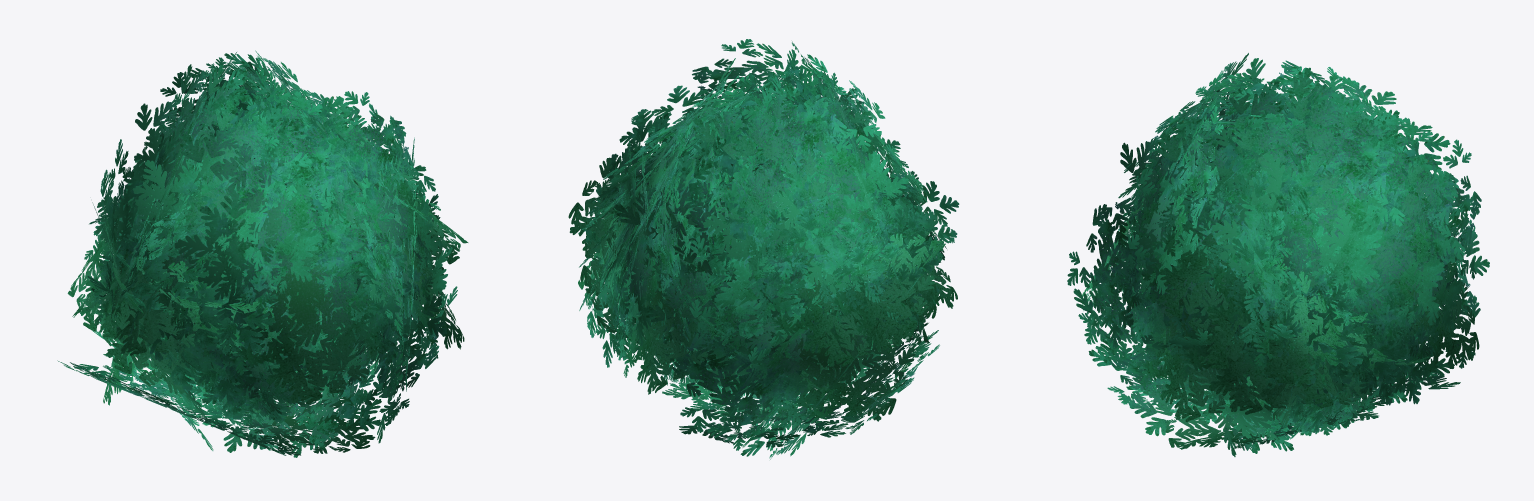
The model's file is bush_clip.glb.
3 views of the same model, side by side, from view 1: azimuth 30°, elevation 25°; view 2: azimuth 150°, elevation 25°; view 3: azimuth 270°, elevation 25° (orthographic). The views are drawn at different scales.
Parts seen in each view (by area): view 1: bush; view 2: bush; view 3: bush.
Boxes of the visible parts, x1=… form: bush: x1=57, y1=50, x2=468, y2=457; bush: x1=568, y1=39, x2=959, y2=459; bush: x1=1067, y1=53, x2=1489, y2=456.
Bounding box in the file's own units: 2.6 × 2.64 × 2.59.
1 material, 1 textured.
